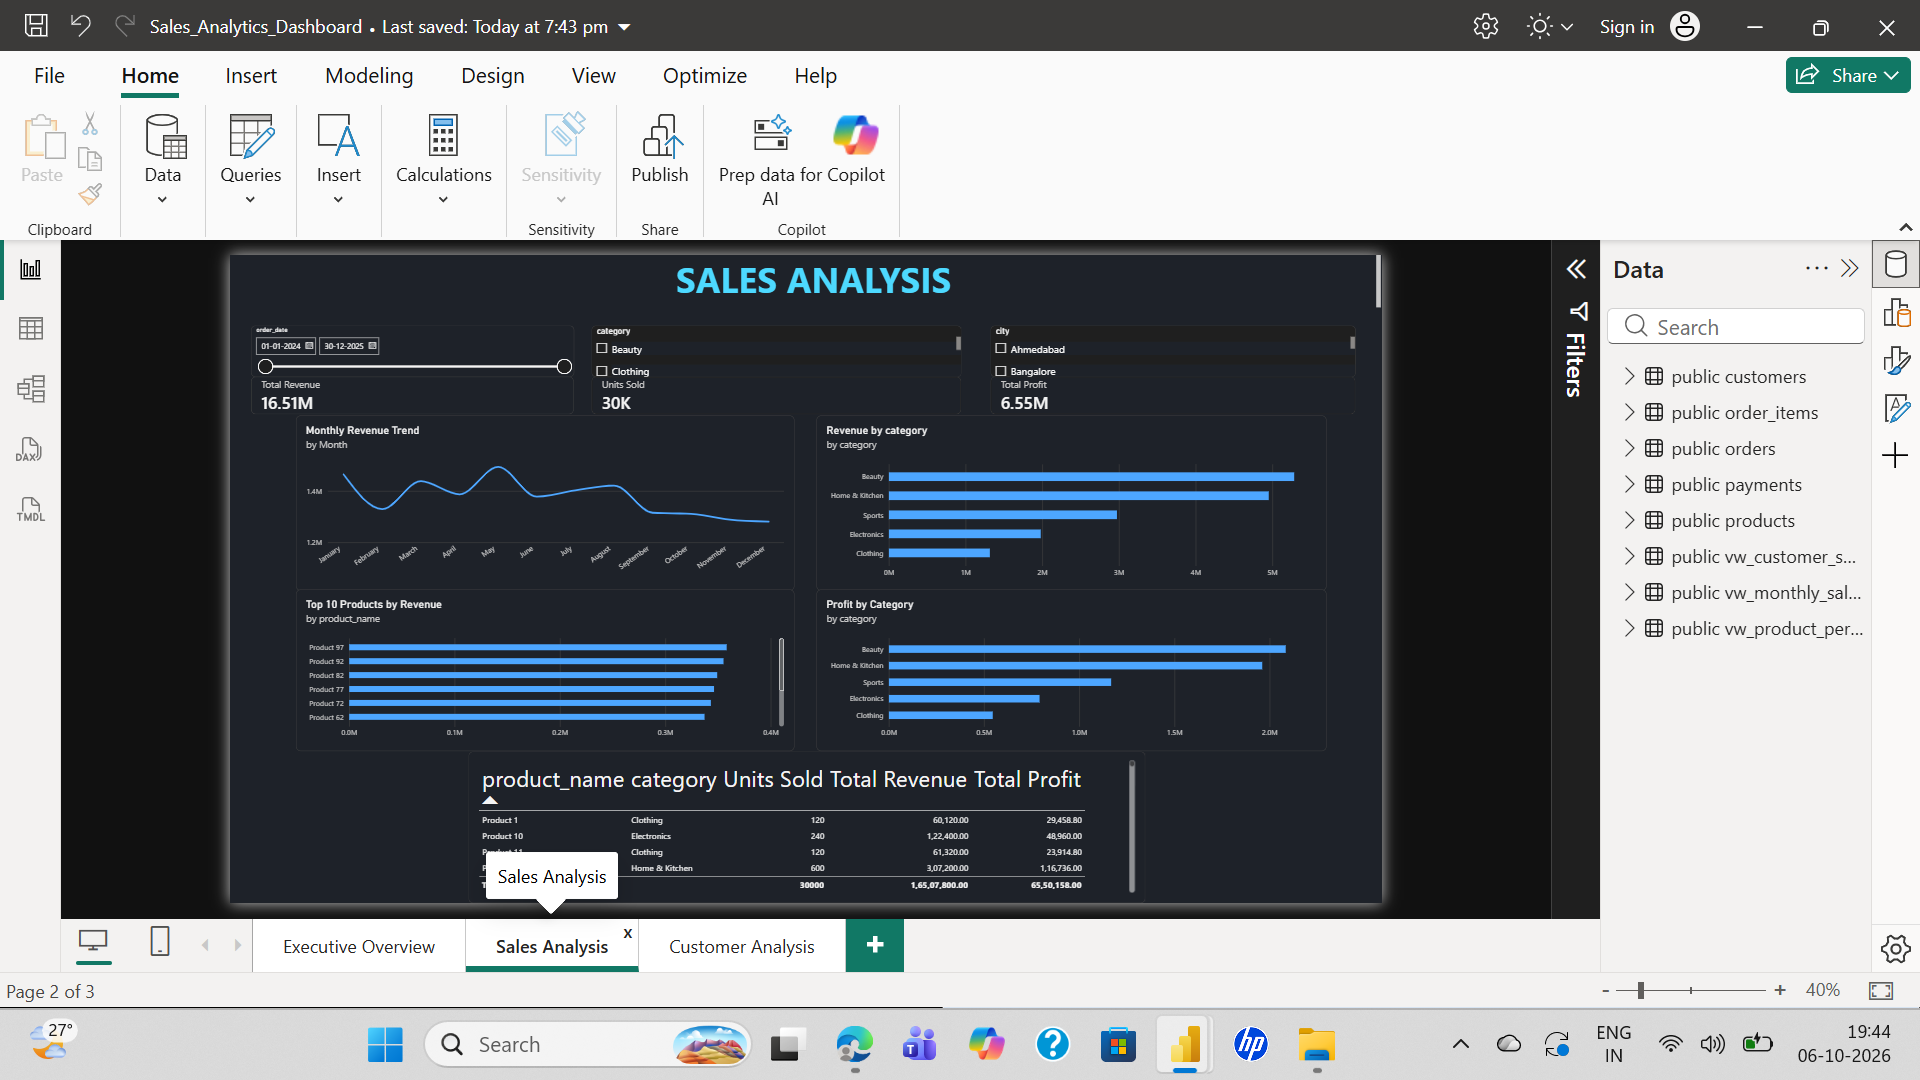

This screenshot's page, from the dashboard's own definition file:
{"tool":"powerbi","page":{"name":"Sales Analysis","canvas":[1920,1080],"ordinal":1},"visuals":[{"type":"cardVisual","fields":{"Data":["public customers.Total Revenue"]},"box":[36.1,202.8,538.9,63.9],"z":0},{"type":"cardVisual","fields":{"Data":["public order_items.Units Sold"]},"box":[602.8,202.8,616.7,63.9],"z":1000},{"type":"cardVisual","fields":{"Data":["public customers.Total Profit"]},"box":[1266.7,202.8,608.3,63.9],"z":2000},{"type":"lineChart","fields":{"Category":["public orders.order_date.Variation.Date Hierarchy.Month"],"Y":["public customers.Total Revenue"]},"box":[111.1,266.7,830.6,291.7],"z":3000},{"type":"clusteredBarChart","fields":{"Category":["public products.category"],"Y":["public customers.Total Revenue"]},"box":[977.8,266.7,850,291.7],"z":4000},{"type":"clusteredBarChart","fields":{"Y":["public customers.Total Revenue"],"Category":["public products.product_name"]},"box":[111.1,558.3,830.6,269.4],"z":5000},{"type":"clusteredBarChart","fields":{"Category":["public products.category"],"Y":["public customers.Total Profit"]},"box":[977.8,558.3,850,269.4],"z":6000},{"type":"tableEx","fields":{"Values":["public products.product_name","public products.category","public order_items.Units Sold","public customers.Total Revenue","public customers.Total Profit"]},"box":[397.2,827.8,1127.8,252.8],"z":7000},{"type":"slicer","fields":{"Values":["public orders.order_date"]},"box":[36.1,116.7,538.9,86.1],"z":8000},{"type":"slicer","fields":{"Values":["public products.category"]},"box":[602.8,116.7,616.7,86.1],"z":9000},{"type":"slicer","fields":{"Values":["public customers.city"]},"box":[1266.7,116.7,608.3,86.1],"z":10000},{"type":"textbox","box":[36.1,0,1883.3,91.7],"z":11000}]}

Visuals, with their boxes on the page's 1920x1080 design canvas (x1, y1, x2, y2). These are canvas units, not pixel positions in the 1920x1080 screenshot, which may show the page scaled, cropped or inside an application window:
cardVisual - public customers.Total Revenue: crop(36, 203, 575, 267)
cardVisual - public order_items.Units Sold: crop(603, 203, 1220, 267)
cardVisual - public customers.Total Profit: crop(1267, 203, 1875, 267)
lineChart - public orders.order_date.Variation.Date Hierarchy.Month x public customers.Total Revenue: crop(111, 267, 942, 558)
clusteredBarChart - public products.category x public customers.Total Revenue: crop(978, 267, 1828, 558)
clusteredBarChart - public customers.Total Revenue x public products.product_name: crop(111, 558, 942, 828)
clusteredBarChart - public products.category x public customers.Total Profit: crop(978, 558, 1828, 828)
tableEx - public products.product_name x public products.category: crop(397, 828, 1525, 1081)
slicer - public orders.order_date: crop(36, 117, 575, 203)
slicer - public products.category: crop(603, 117, 1220, 203)
slicer - public customers.city: crop(1267, 117, 1875, 203)
textbox: crop(36, 0, 1919, 92)
